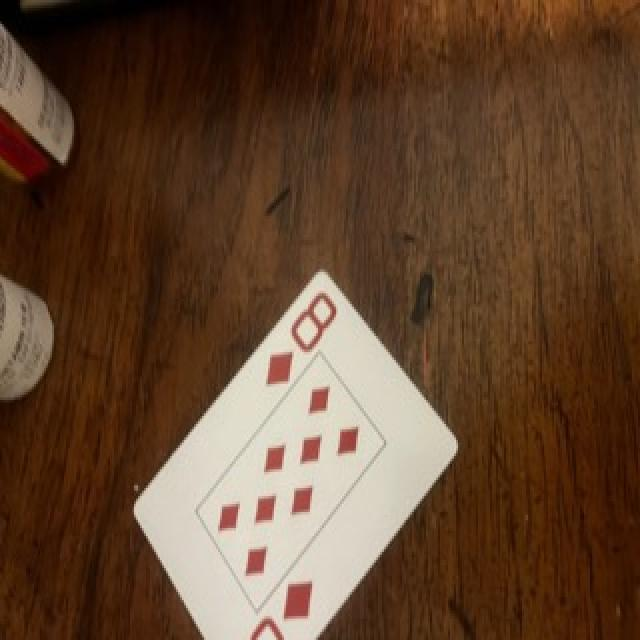8 of diamonds: (135, 272, 458, 638)
